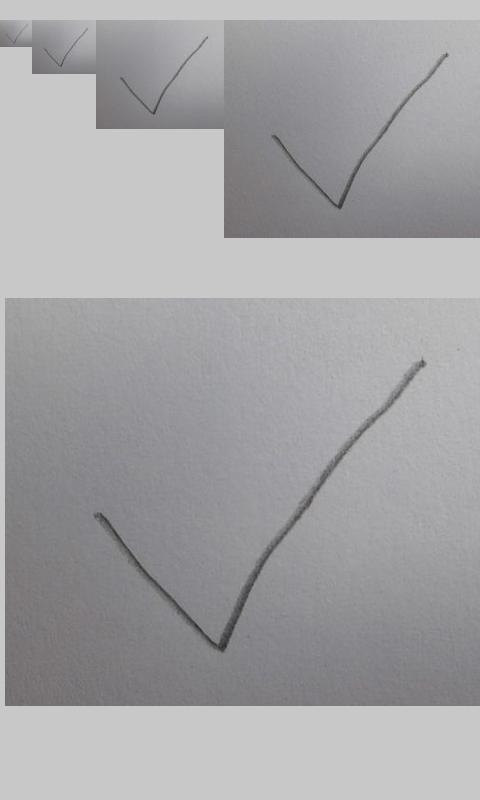check_box: (97, 359, 423, 652), (273, 53, 448, 210), (120, 36, 209, 115), (44, 28, 88, 67), (6, 24, 27, 44)
